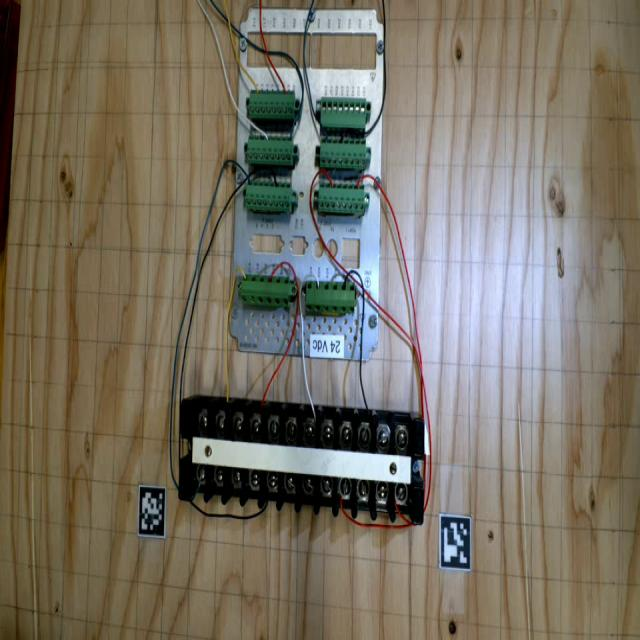Flathead_Block: (172, 397, 433, 524)
Terminal_1: (305, 280, 355, 314), (240, 274, 290, 307)
Terminal_2: (319, 137, 367, 170), (244, 179, 291, 212), (318, 182, 365, 214), (246, 133, 293, 165), (249, 89, 295, 119)
